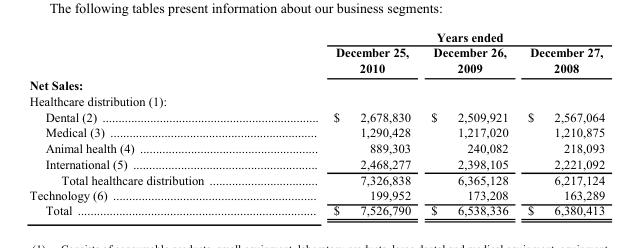table: (28, 29, 604, 216)
table column: (28, 29, 268, 216), (268, 29, 420, 216), (420, 29, 517, 216), (517, 29, 604, 216)
table column header: (28, 29, 604, 76)
table projected row header: (28, 76, 604, 92), (28, 92, 604, 108)
table row: (28, 44, 604, 76), (28, 76, 604, 92), (28, 92, 604, 108), (28, 108, 604, 124), (28, 139, 604, 155), (28, 155, 604, 171), (28, 171, 604, 187), (28, 29, 604, 44), (28, 124, 604, 139), (28, 187, 604, 202), (28, 202, 604, 216)
table spanning cell: (268, 29, 604, 44)
